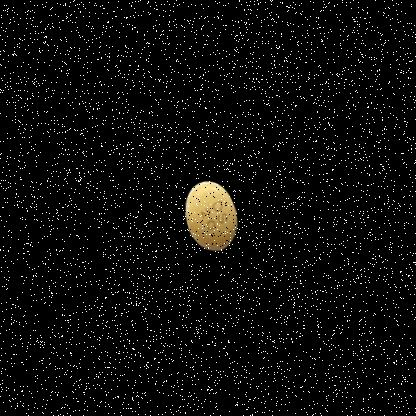rabeparzole20: (173, 160, 247, 268)
